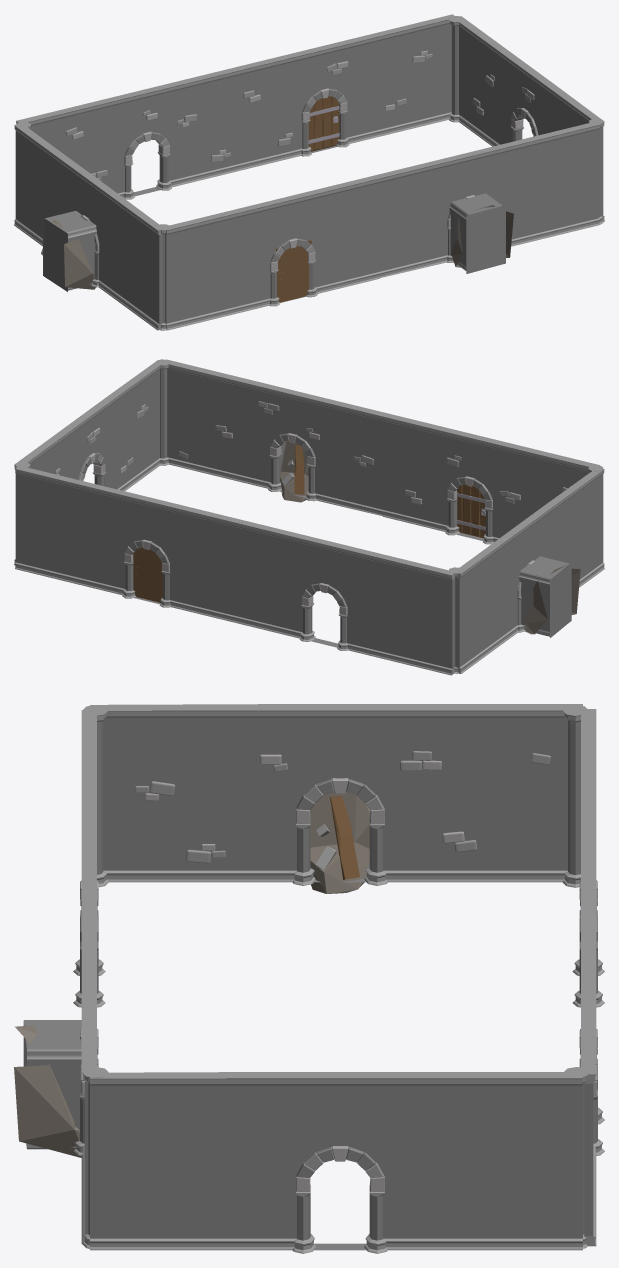
Rendered from Map4_wall.fbx.
3 renders of one model, top to bottom at view 1: azimuth 30°, elevation 25°; view 2: azimuth 150°, elevation 25°; view 3: azimuth 270°, elevation 25°, orthographic. The views are drawn at different scales.
Visible parts, largest first — view 1: Map 2 wall; view 2: Map 2 wall; view 3: Map 2 wall.
Boxes of the visible parts, x1=… form: Map 2 wall: x1=14, y1=14, x2=604, y2=330; Map 2 wall: x1=14, y1=359, x2=604, y2=675; Map 2 wall: x1=14, y1=704, x2=604, y2=1253.
Bounding box in the file's own units: 6289 × 1368 × 3860.
